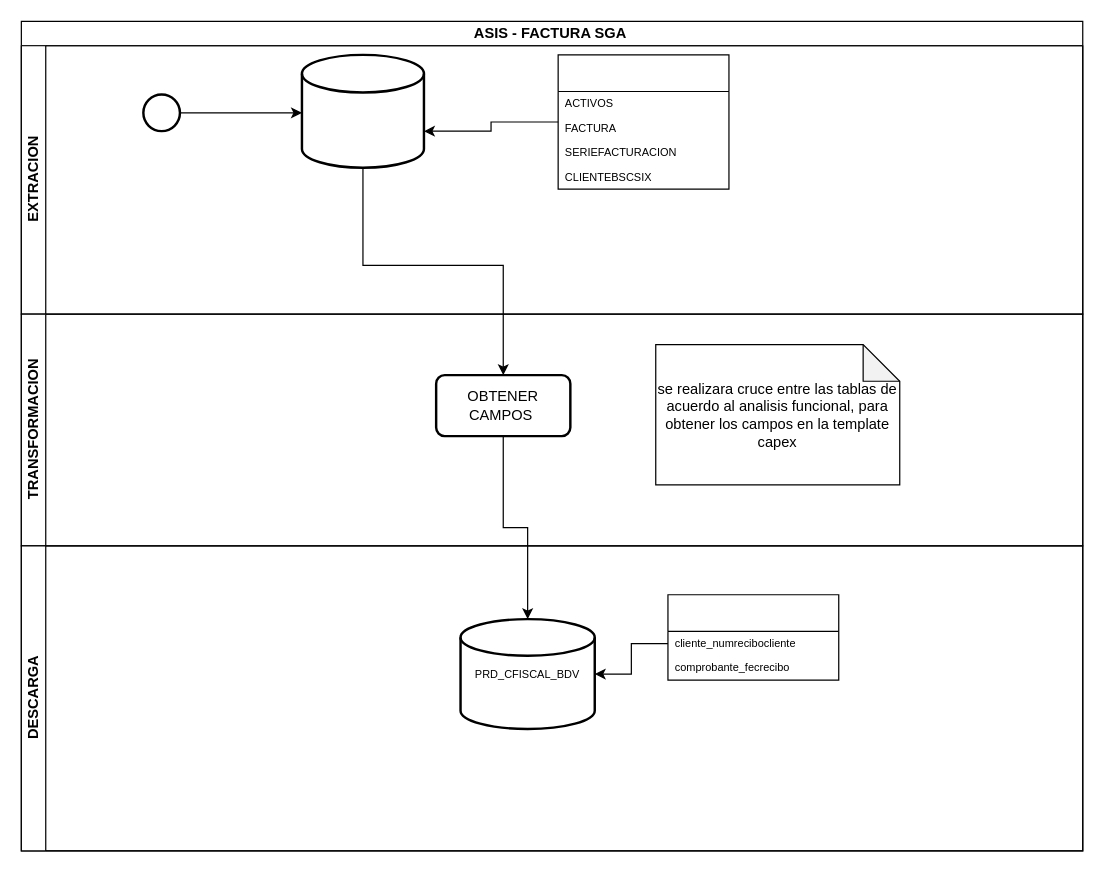
The diagram is 1104 pixels wide and 872 high, and some of its shapes have lost their labels. Each missing label, with the box of its shape:
fact_capexvariable_deta: (667, 594, 839, 680)
PRD_CFISCAL_CDV: (300, 53, 425, 168)
TABLAS: (557, 54, 729, 189)
